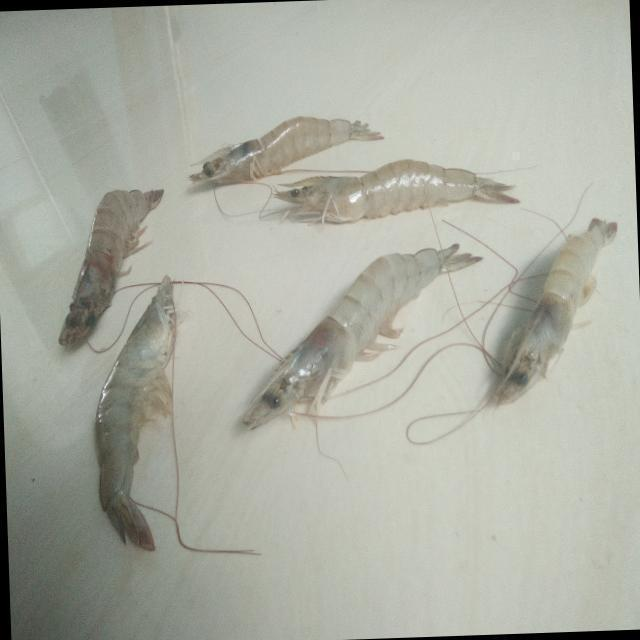shrimp: (243, 243, 479, 428), (495, 218, 618, 404), (94, 275, 174, 551), (57, 189, 162, 345), (275, 158, 519, 222), (189, 115, 383, 181)
